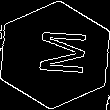M_W: (25, 30, 85, 80)
